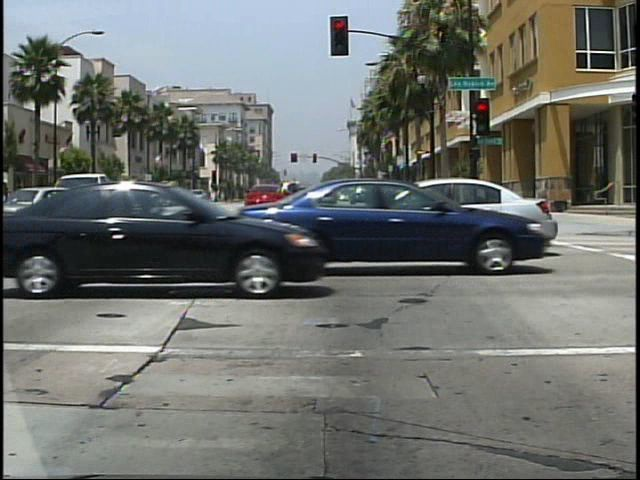person: (2, 172, 20, 231)
